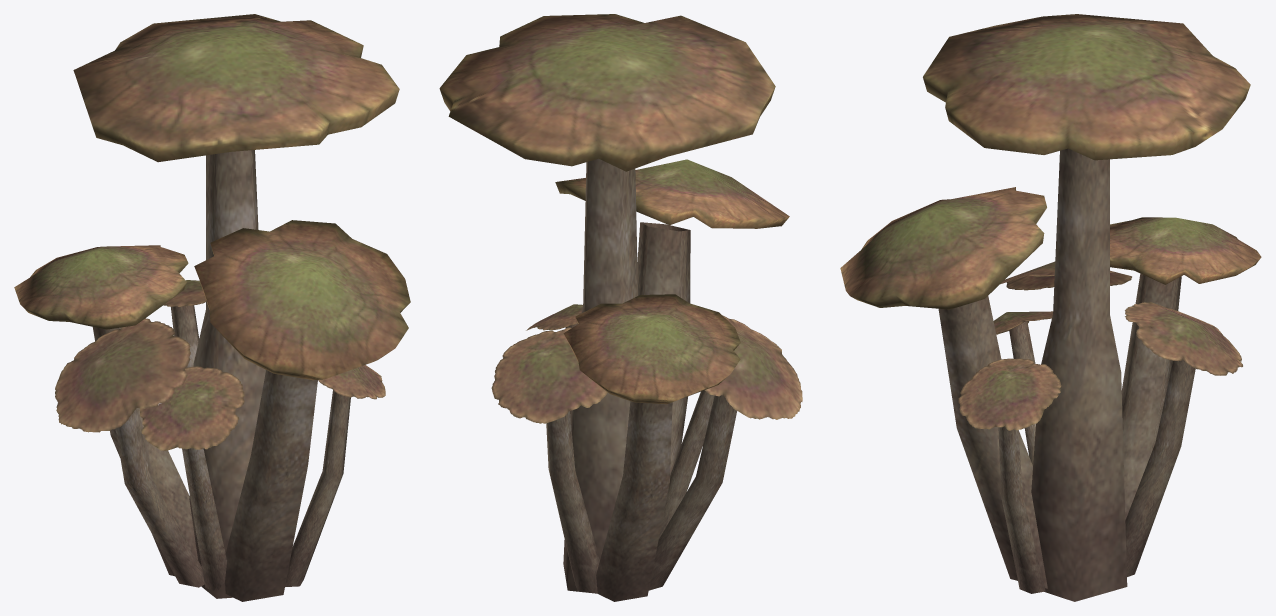
Rendered from SJHD_plant_05.FBX.
The picture shows the model from 3 angles, left to right: view 1: azimuth 30°, elevation 25°; view 2: azimuth 150°, elevation 25°; view 3: azimuth 270°, elevation 25°; orthographic projection.
Parts seen in each view (by area): view 1: SJHD_plant_05; view 2: SJHD_plant_05; view 3: SJHD_plant_05.
Boxes of the visible parts, x1=… form: SJHD_plant_05: x1=14, y1=14, x2=410, y2=601; SJHD_plant_05: x1=439, y1=14, x2=802, y2=601; SJHD_plant_05: x1=840, y1=14, x2=1261, y2=601.
Bounding box in the file's own units: 83.2 × 129 × 92.38.
Materials: 1 (1 with a texture image).
